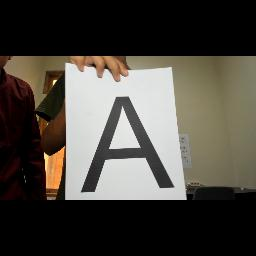a: (76, 90, 182, 196)
